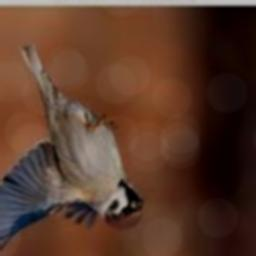Sparrow: (0, 47, 143, 256)
